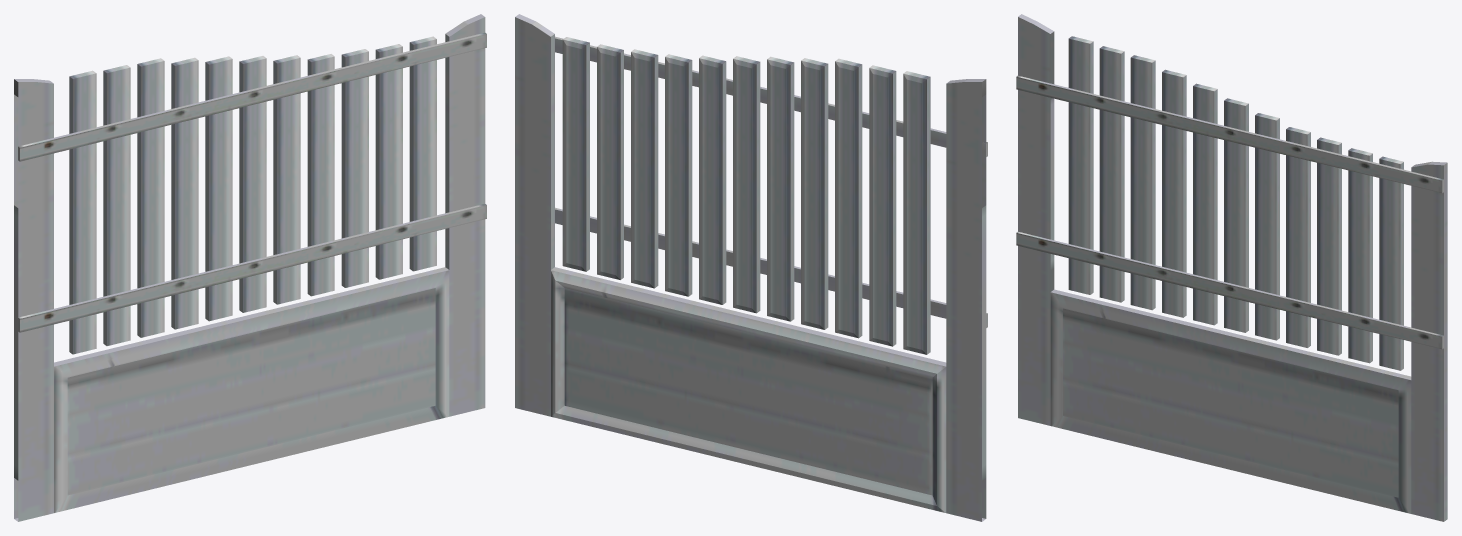
Rendered from Urban_PlasticGateLeft_Model.fbx.
3 views of the same model, side by side, from view 1: azimuth 30°, elevation 25°; view 2: azimuth 150°, elevation 25°; view 3: azimuth 330°, elevation 25° (orthographic). The views are drawn at different scales.
Visible parts, largest first — view 1: Urban_PlasticGateLeft_Mesh; view 2: Urban_PlasticGateLeft_Mesh; view 3: Urban_PlasticGateLeft_Mesh.
Part boxes in pixels (<box>): Urban_PlasticGateLeft_Mesh: <box>14,14,486,521</box>; Urban_PlasticGateLeft_Mesh: <box>515,14,987,521</box>; Urban_PlasticGateLeft_Mesh: <box>1016,14,1447,521</box>.
Size of the model in its own units: 2 by 1.8 by 0.0605.
